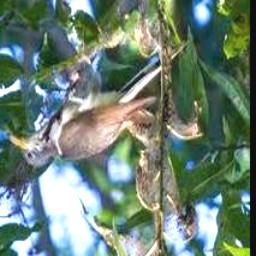Cuckoo: (11, 37, 190, 167)
